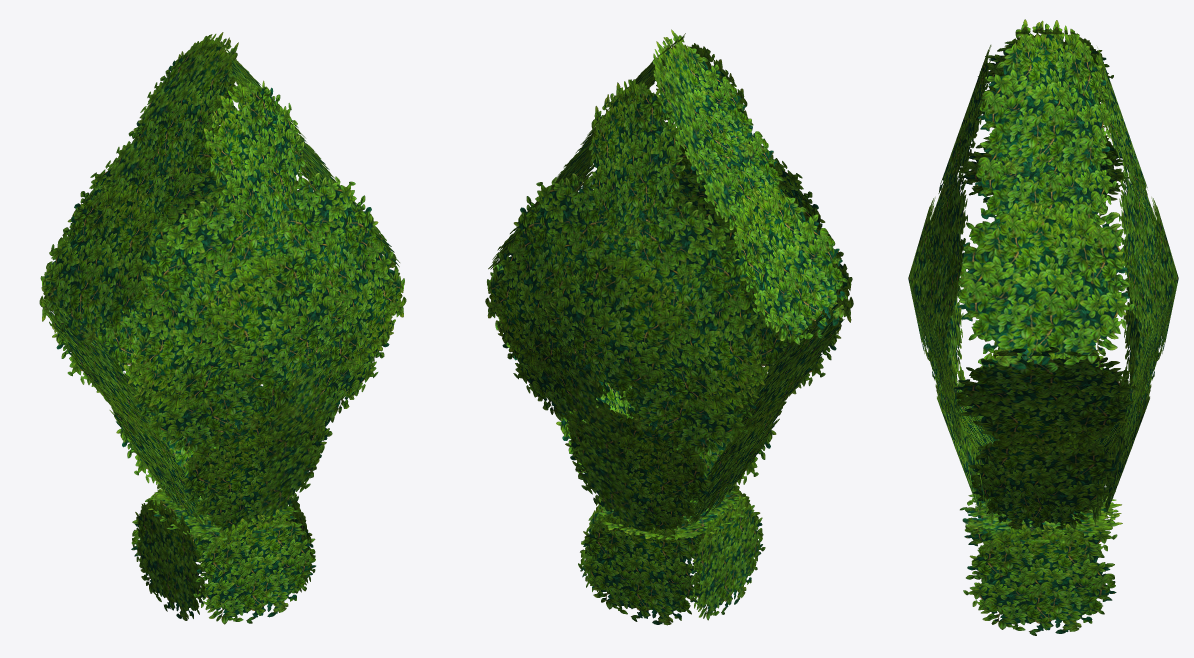
Rendered from Gardingarch2.FBX.
3 views of the same model, side by side, from view 1: azimuth 30°, elevation 25°; view 2: azimuth 150°, elevation 25°; view 3: azimuth 270°, elevation 25° (orthographic). The views are drawn at different scales.
Visible parts, largest first — view 1: Gardingarch2; view 2: Gardingarch2; view 3: Gardingarch2.
Boxes of the visible parts, x1,y1,x2,y2 form: Gardingarch2: [39, 32, 406, 624]; Gardingarch2: [485, 29, 853, 625]; Gardingarch2: [908, 19, 1178, 635].
Bounding box in the file's own units: 6.17 × 10.19 × 4.22.
1 material, 1 textured.
